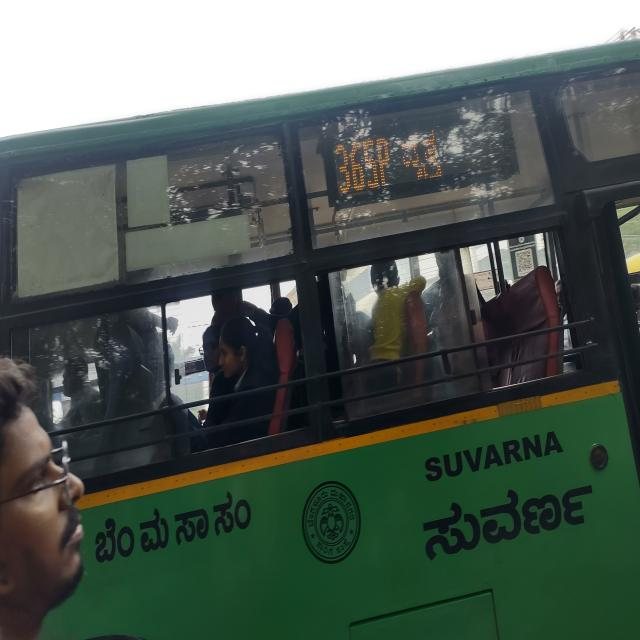bus: (0, 24, 640, 640)
display: (337, 107, 508, 192)
dnumber: (338, 134, 392, 193)
